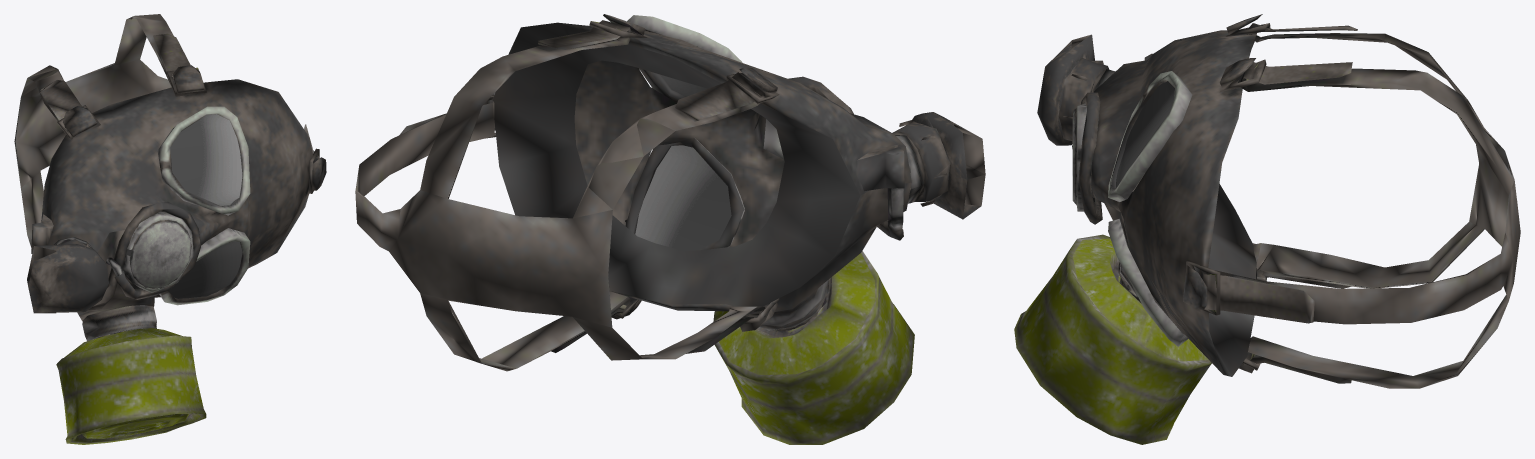
The model's file is F_GasMaskPMK1.fbx.
3 renders of one model, left to right at view 1: azimuth 30°, elevation 25°; view 2: azimuth 150°, elevation 25°; view 3: azimuth 270°, elevation 25°, orthographic. The views are drawn at different scales.
Visible parts, largest first — view 1: PMK-1 Gas Mask; view 2: PMK-1 Gas Mask; view 3: PMK-1 Gas Mask.
Boxes of the visible parts, left/top/right/bottom form: PMK-1 Gas Mask: left=14, top=14, right=326, bottom=444; PMK-1 Gas Mask: left=355, top=14, right=985, bottom=444; PMK-1 Gas Mask: left=1014, top=14, right=1520, bottom=444.
Bounding box in the file's own units: 0.1949 × 0.1677 × 0.1765.
